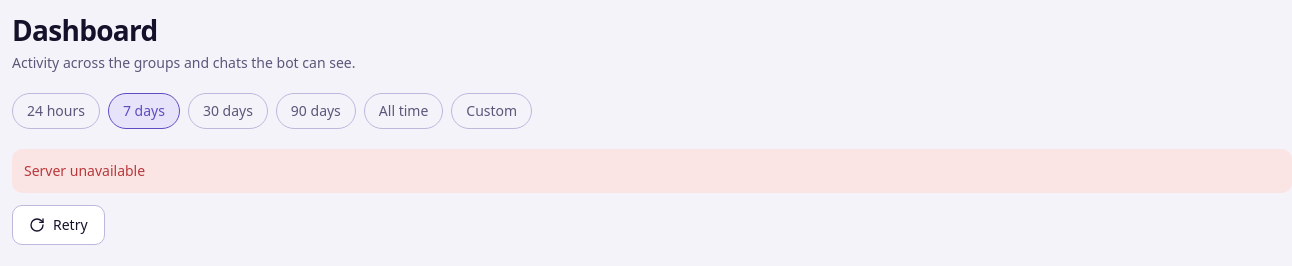
Test: Dashboard states › keeps focus on Retry when the retry fails again
Click the button "Retry" at (58, 225), box x1=12 y1=205 x2=105 y2=245
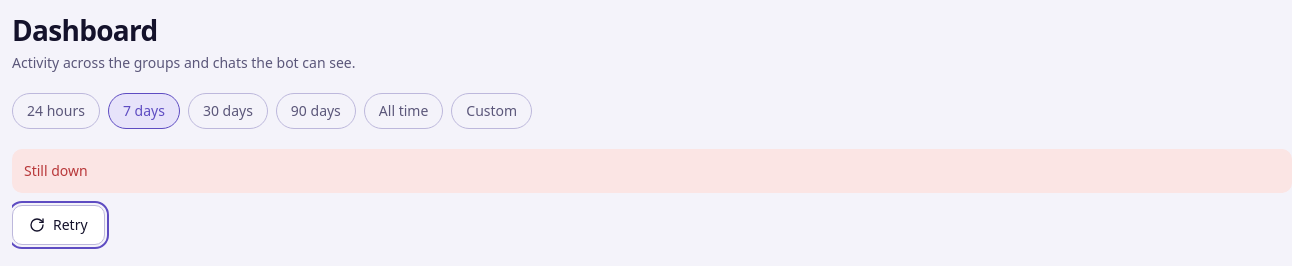
Expected: the message reads "Still down", x1=24 y1=161 x2=88 y2=180
